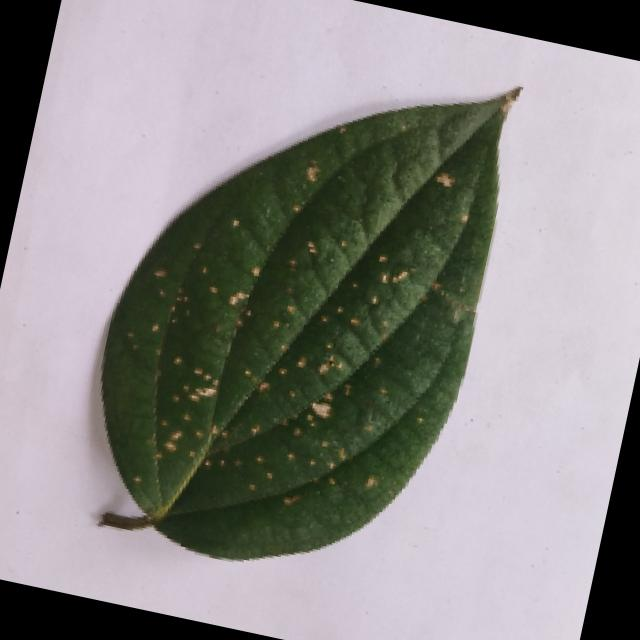pollu-disease: (38, 8, 574, 612)
